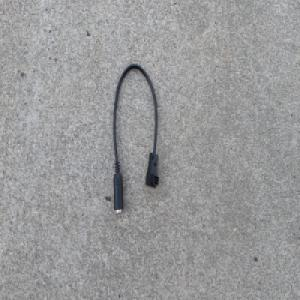Wire: (111, 61, 161, 214)
